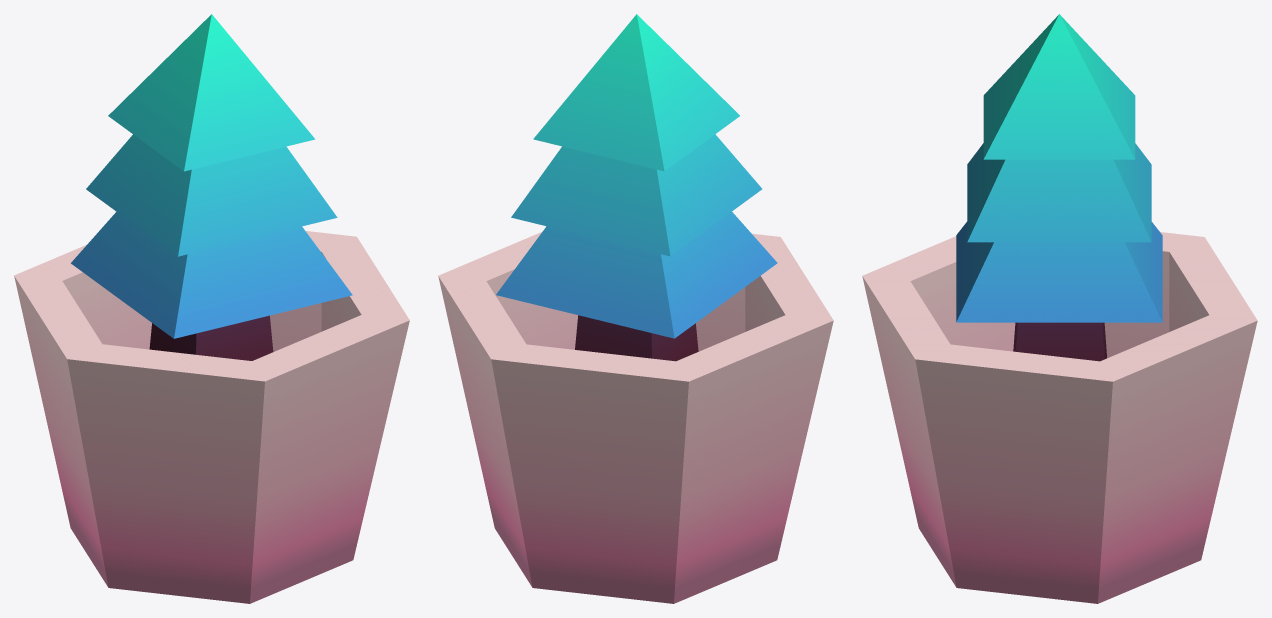
Rendered from smallPlant2.fbx.
3 renders of one model, left to right at view 1: azimuth 30°, elevation 25°; view 2: azimuth 150°, elevation 25°; view 3: azimuth 270°, elevation 25°, orthographic.
Parts seen in each view (by area): view 1: plantSmall4; view 2: plantSmall4; view 3: plantSmall4.
Boxes of the visible parts, x1,y1,x2,y2 form: plantSmall4: [14, 14, 409, 603]; plantSmall4: [438, 14, 833, 603]; plantSmall4: [862, 14, 1257, 603].
Size of the model in its own units: 21.99 by 32.53 by 21.99.
